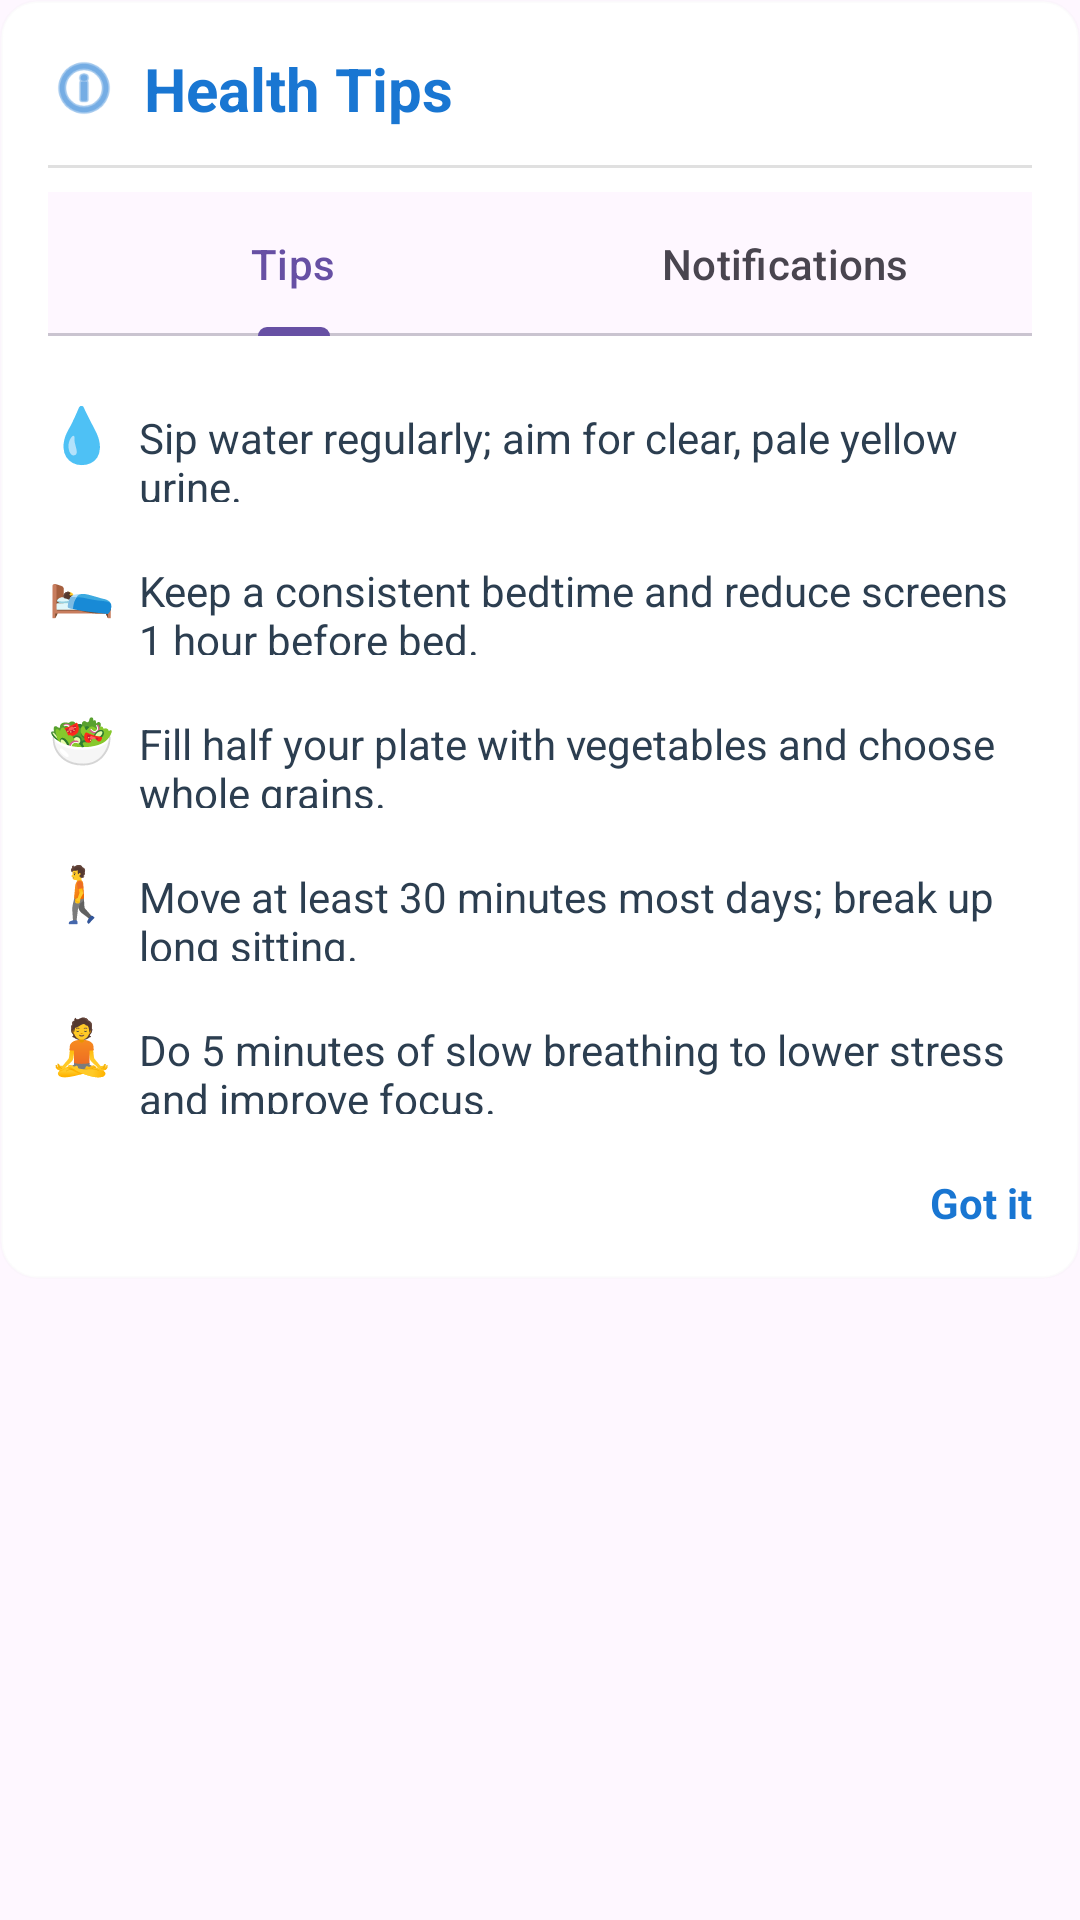

Point at icon controls on the screen. Image size 1080px×1920px, points as point (x, y).
info details: point (84, 88)
